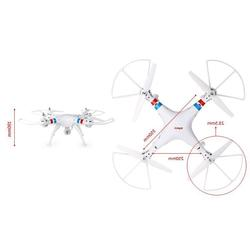drone: (114, 60, 246, 196), (19, 109, 115, 147)
